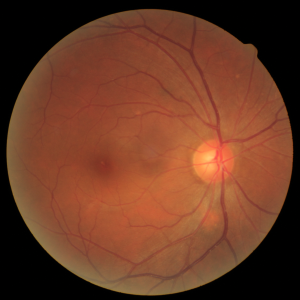healthy_eye: (39, 99, 266, 213)
